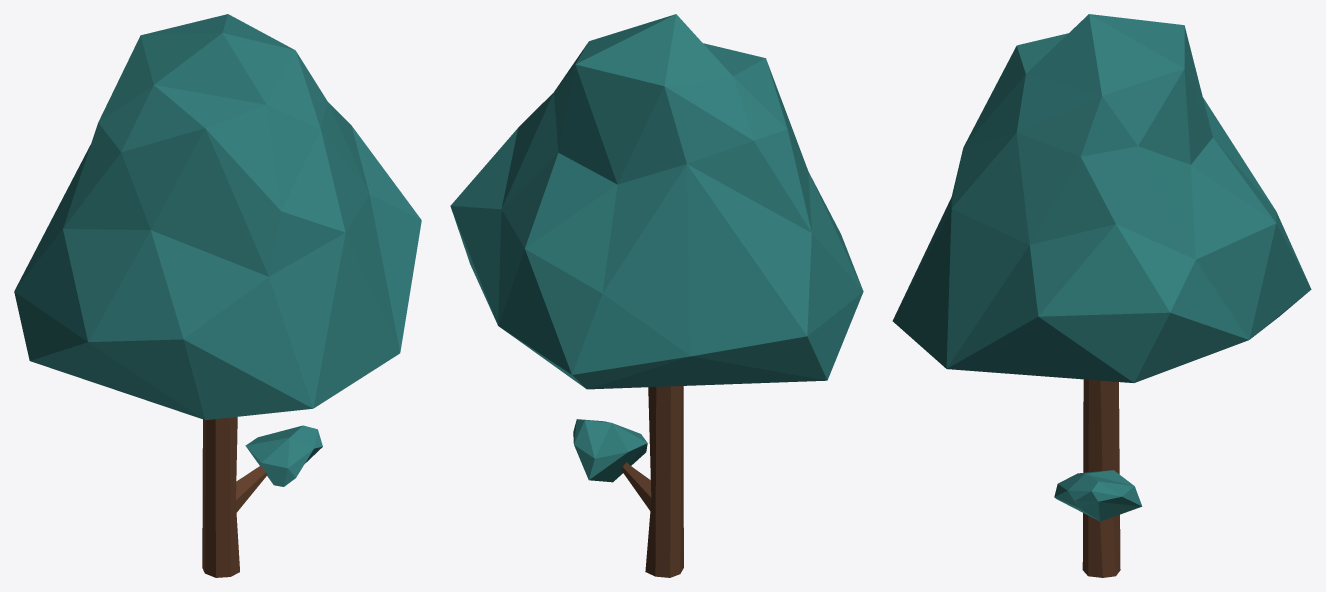
File: Tree_45_Blue.fbx
3 renders of one model, left to right at view 1: azimuth 30°, elevation 25°; view 2: azimuth 150°, elevation 25°; view 3: azimuth 270°, elevation 25°, orthographic.
Parts seen in each view (by area): view 1: Tree_45_Blue_Part_1, Tree_45_Blue_Part_3, Tree_45_Blue_Part_2; view 2: Tree_45_Blue_Part_1, Tree_45_Blue_Part_3, Tree_45_Blue_Part_2; view 3: Tree_45_Blue_Part_1, Tree_45_Blue_Part_3, Tree_45_Blue_Part_2.
Boxes of the visible parts, x1,y1,x2,y2 form: Tree_45_Blue_Part_1: (14,14,421,420); Tree_45_Blue_Part_3: (202,417,267,577); Tree_45_Blue_Part_2: (245,425,322,486); Tree_45_Blue_Part_1: (450,14,863,389); Tree_45_Blue_Part_3: (621,386,683,577); Tree_45_Blue_Part_2: (573,419,647,482); Tree_45_Blue_Part_1: (892,14,1311,382); Tree_45_Blue_Part_3: (1082,379,1120,577); Tree_45_Blue_Part_2: (1054,470,1142,521).
Bounding box in the file's own units: 549 × 807 × 554.
